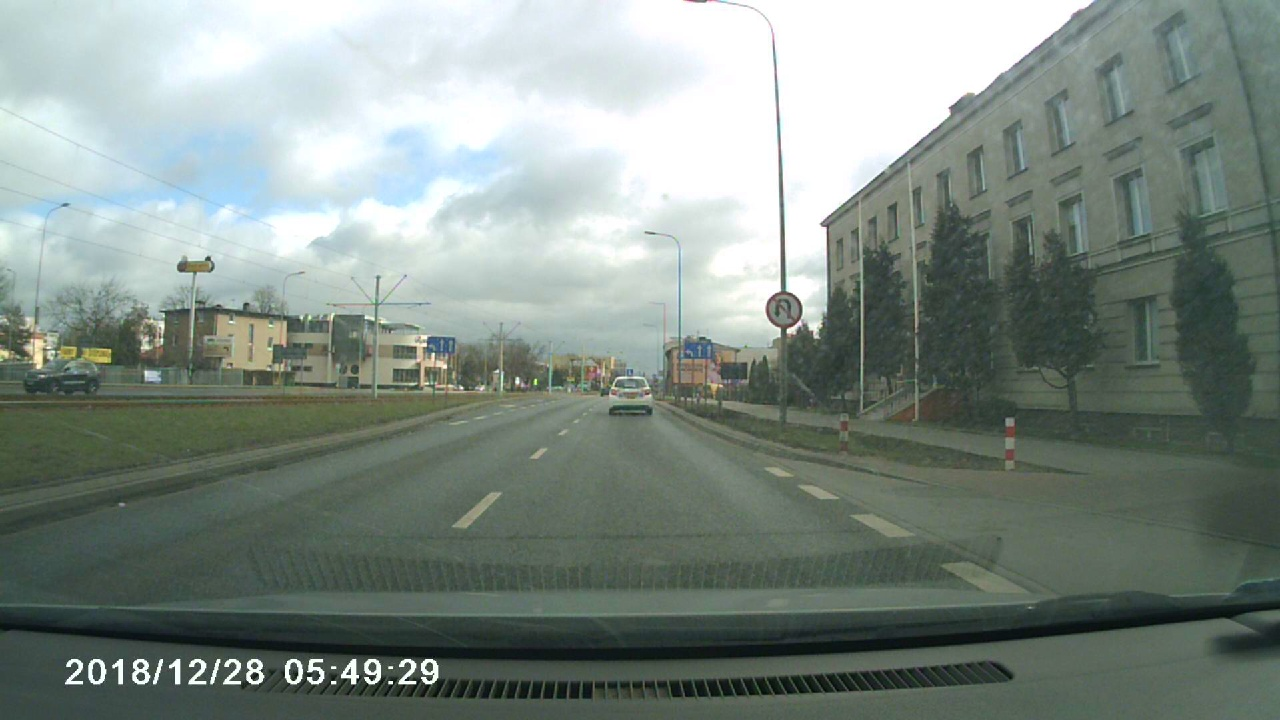B23: (762, 289, 809, 329)
